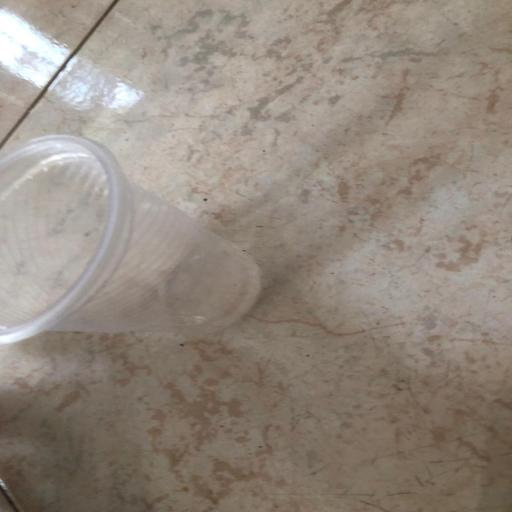waste: (1, 126, 277, 356)
